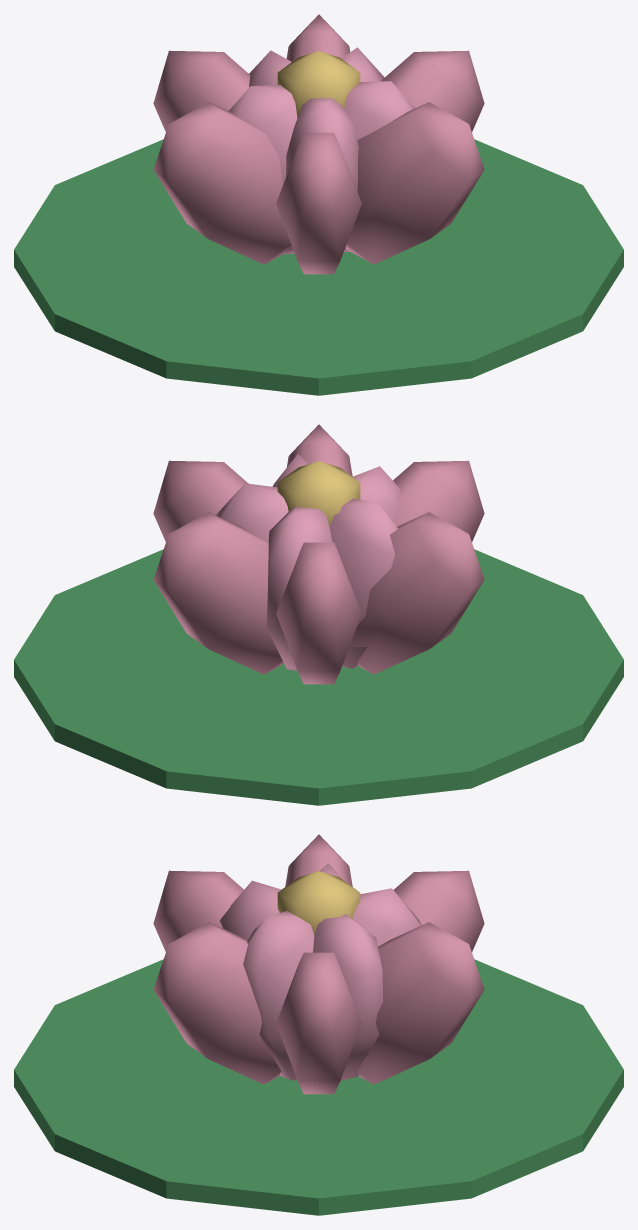
The model's file is lotus.glb.
The picture shows the model from 3 angles, top to bottom: view 1: azimuth 30°, elevation 25°; view 2: azimuth 150°, elevation 25°; view 3: azimuth 270°, elevation 25°; orthographic projection.
Visible parts, largest first — view 1: body; view 2: body; view 3: body.
Part boxes in pixels (x1,y1,x2,y2): body: (14, 14, 623, 395); body: (14, 424, 623, 805); body: (14, 834, 623, 1215).
Bounding box in the file's own units: 0.64 × 0.25 × 0.64.
